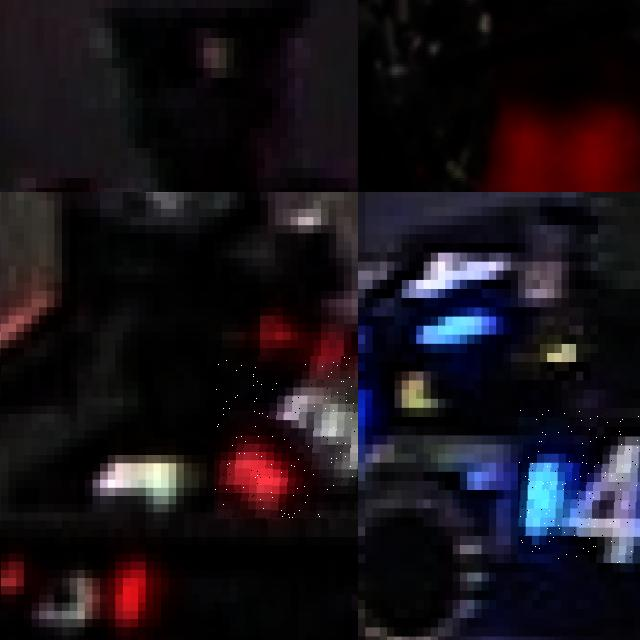B4: (518, 407, 640, 563)
R3: (214, 356, 358, 520)
